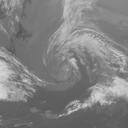cyclone: (42, 23, 114, 92)
